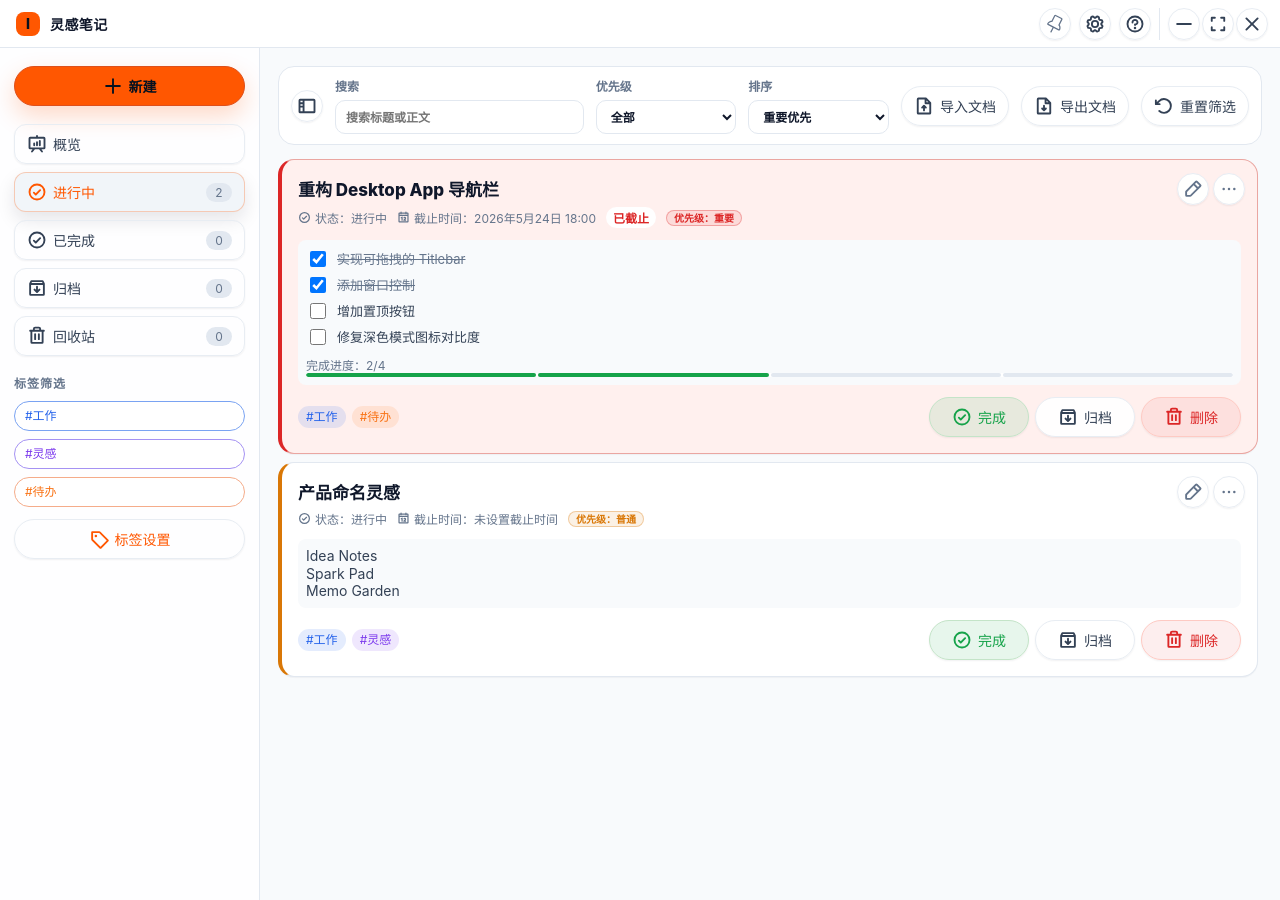
Scenario: App card actions › 更多操作菜单复制标题失败后显示错误提示
Click the 1st button named "更多操作". click: (1229, 188)
box: [1213,172,1245,204]
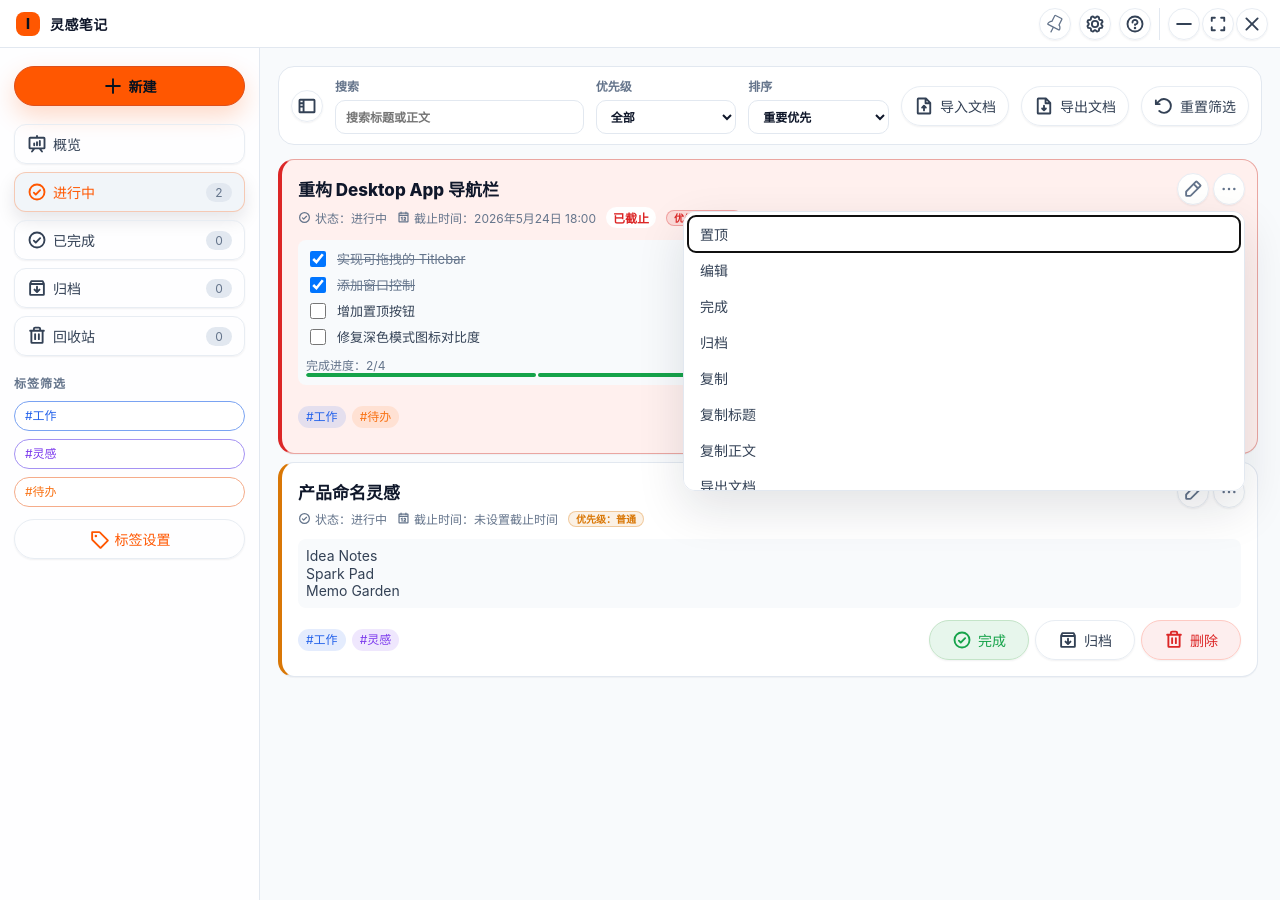
Click the menu item "复制标题". click: (728, 414)
box: [688,396,1240,432]
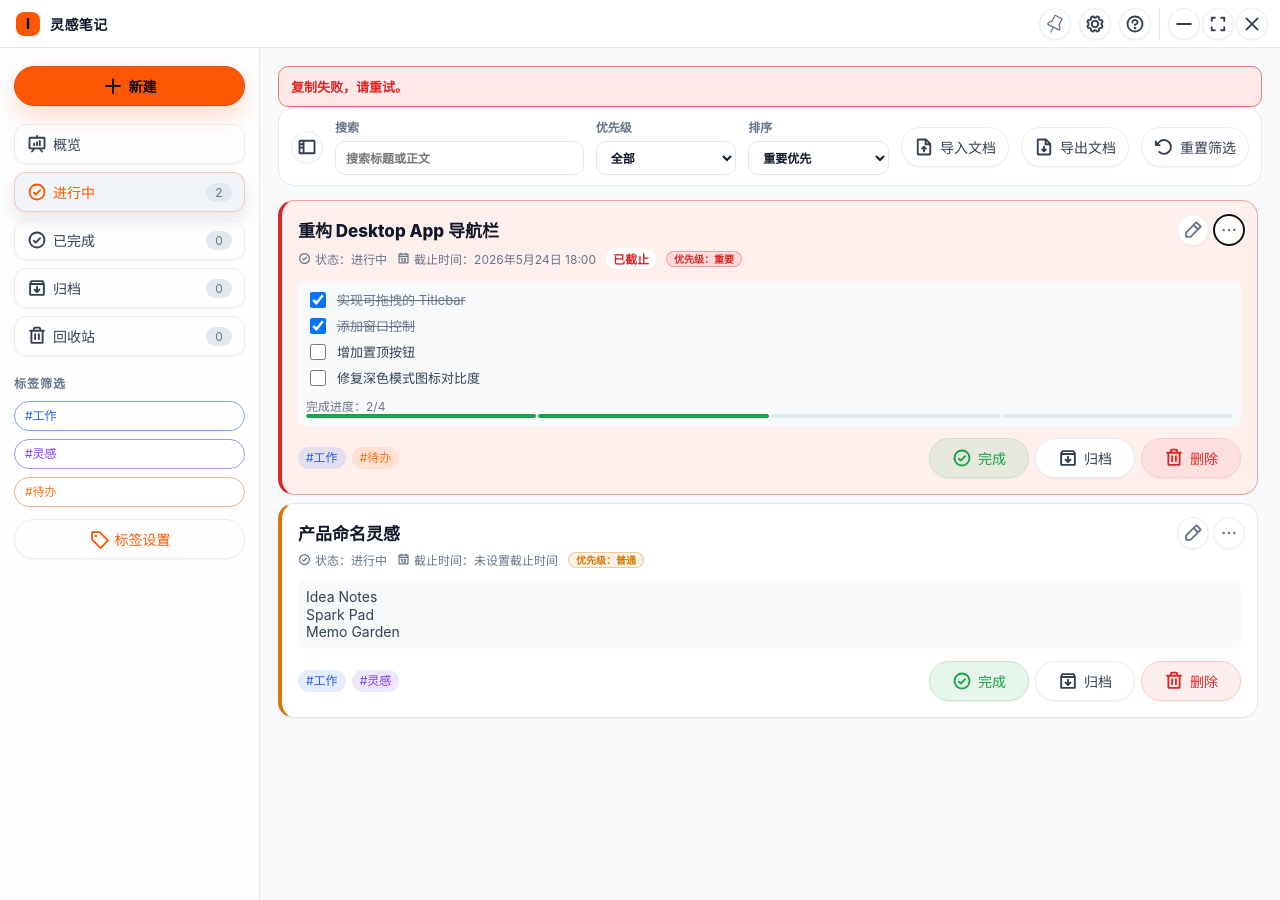
Now the message reads "复制失败，请重试。", box [291,79,408,95]
